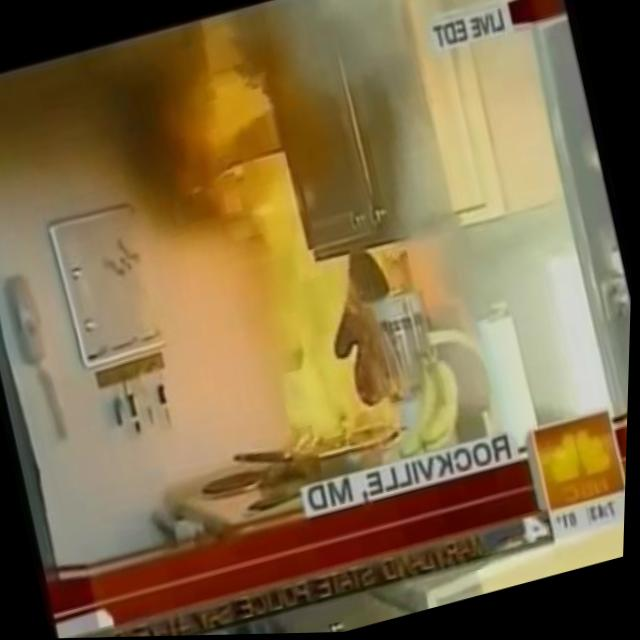fire: (132, 0, 427, 479)
